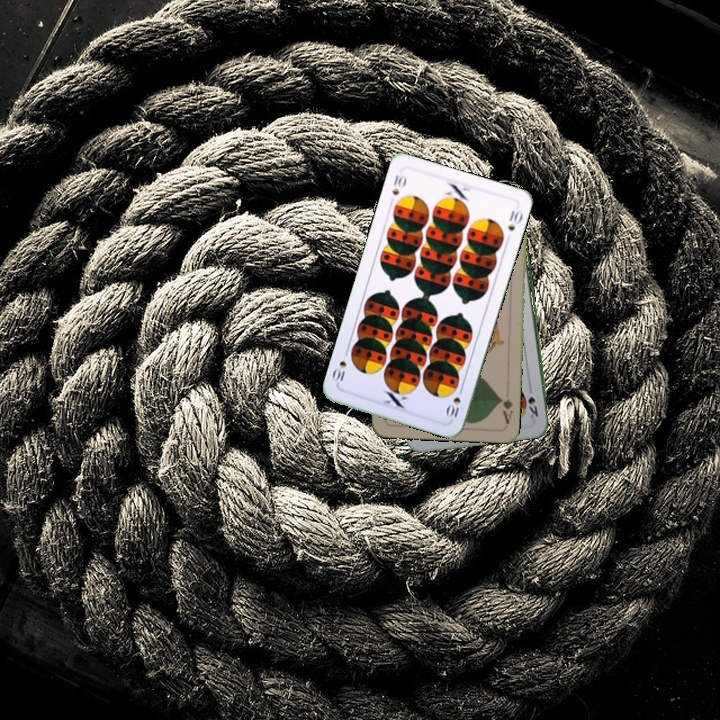GA: (496, 387, 515, 426)
S10: (443, 383, 466, 423), (388, 170, 409, 198)
SK: (524, 393, 541, 421)
